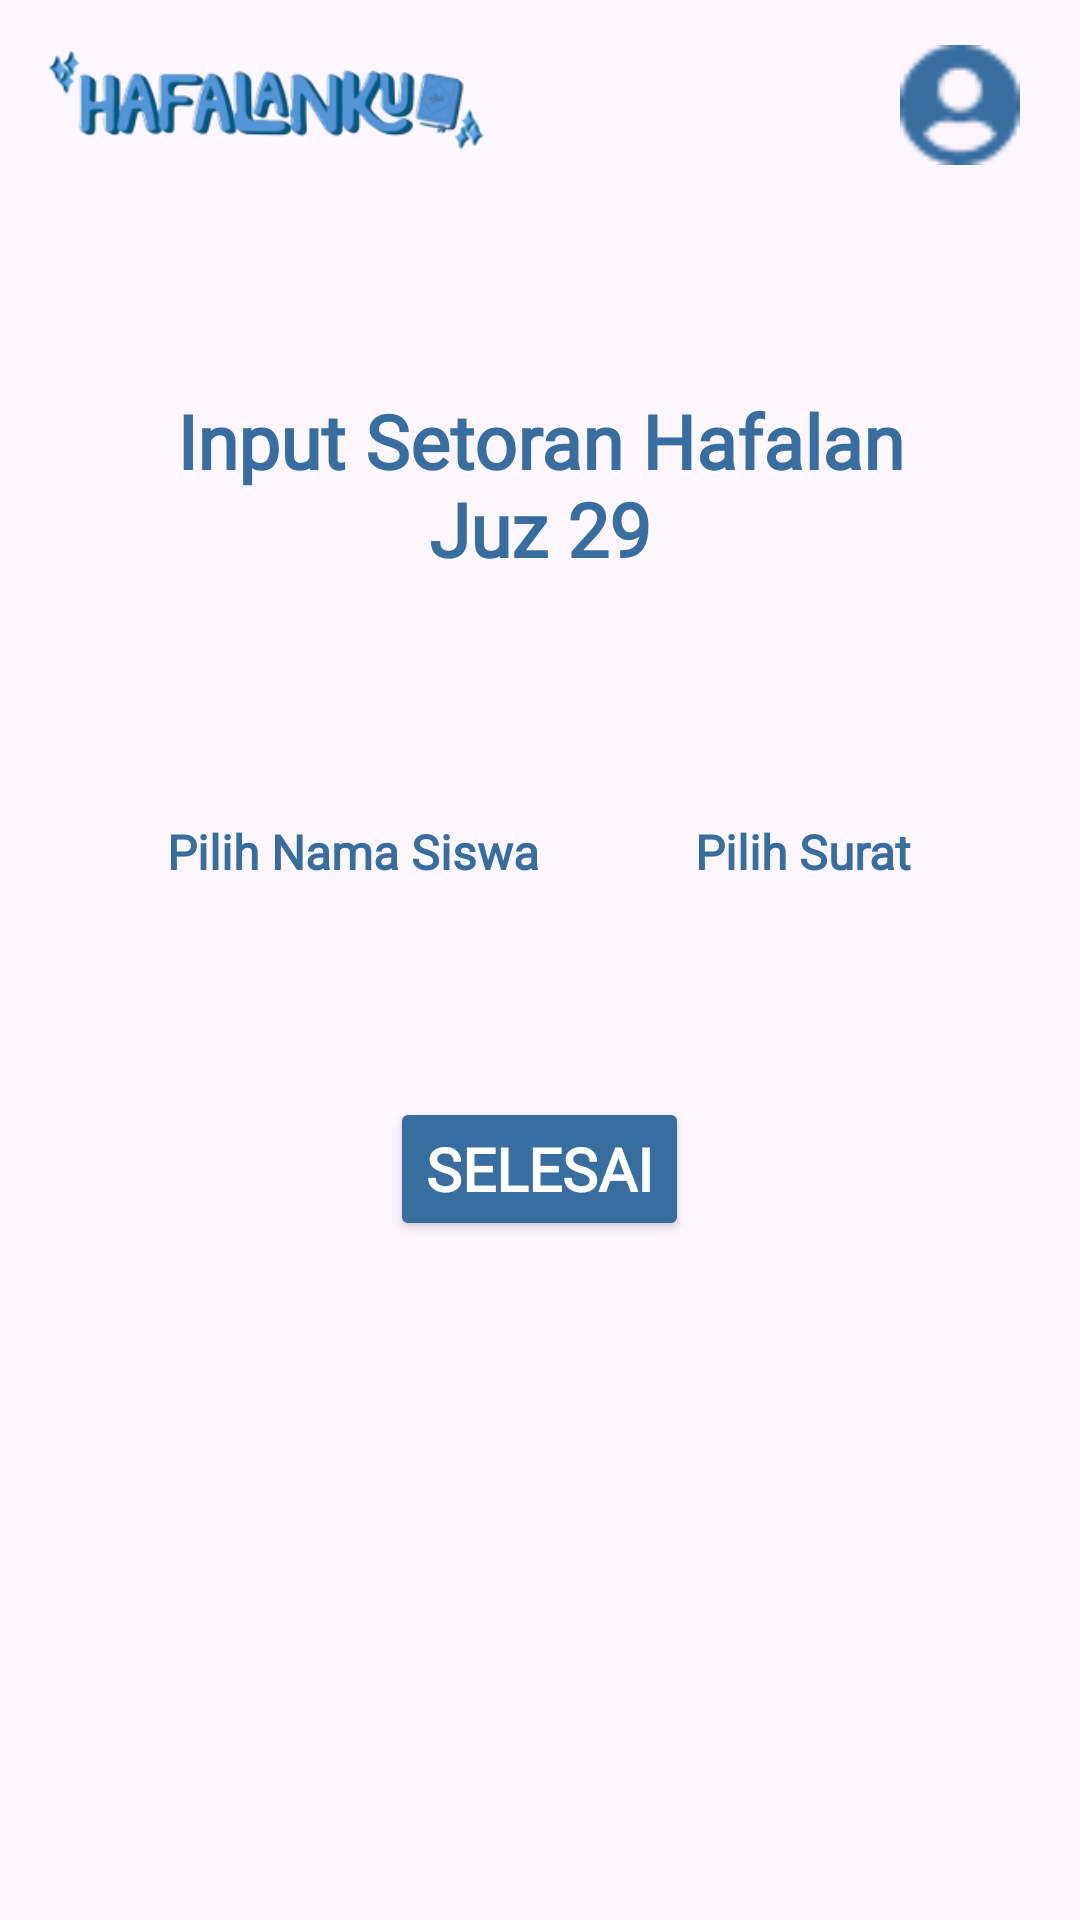

Where to tap for icons on this 1080px×1920px app screen, as (x,y):
profile: (960,105)
